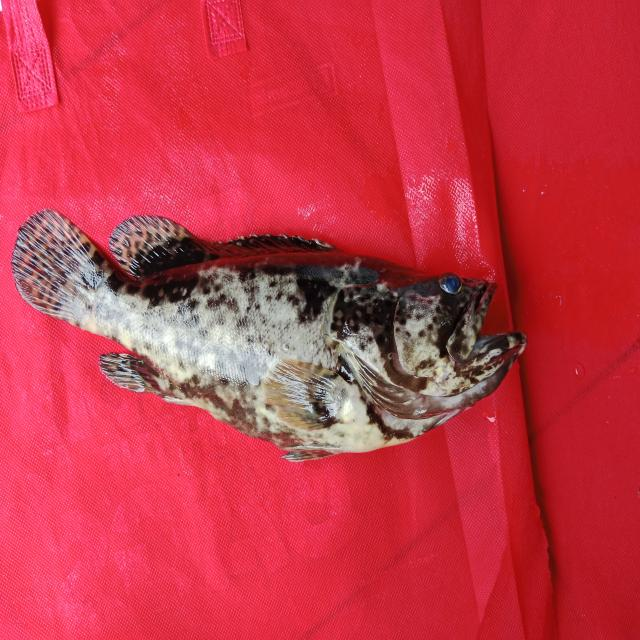ikan: (10, 206, 528, 462)
